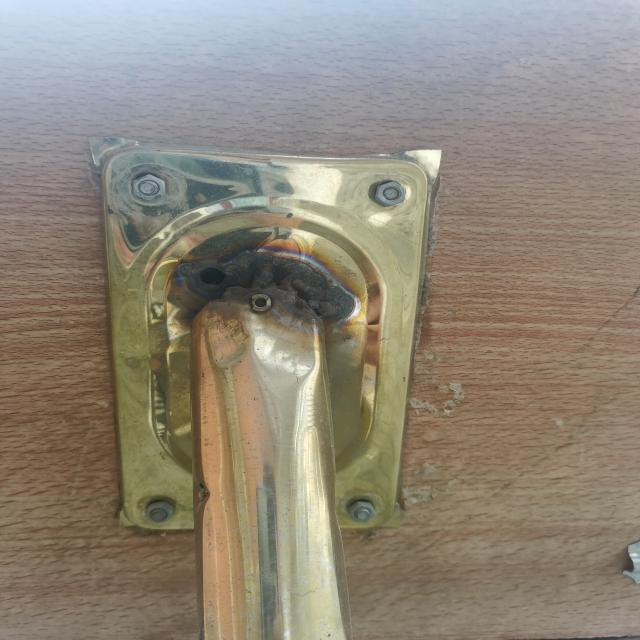bolt nut: (132, 172, 168, 202), (372, 180, 408, 208), (346, 499, 378, 524), (145, 500, 176, 525)
